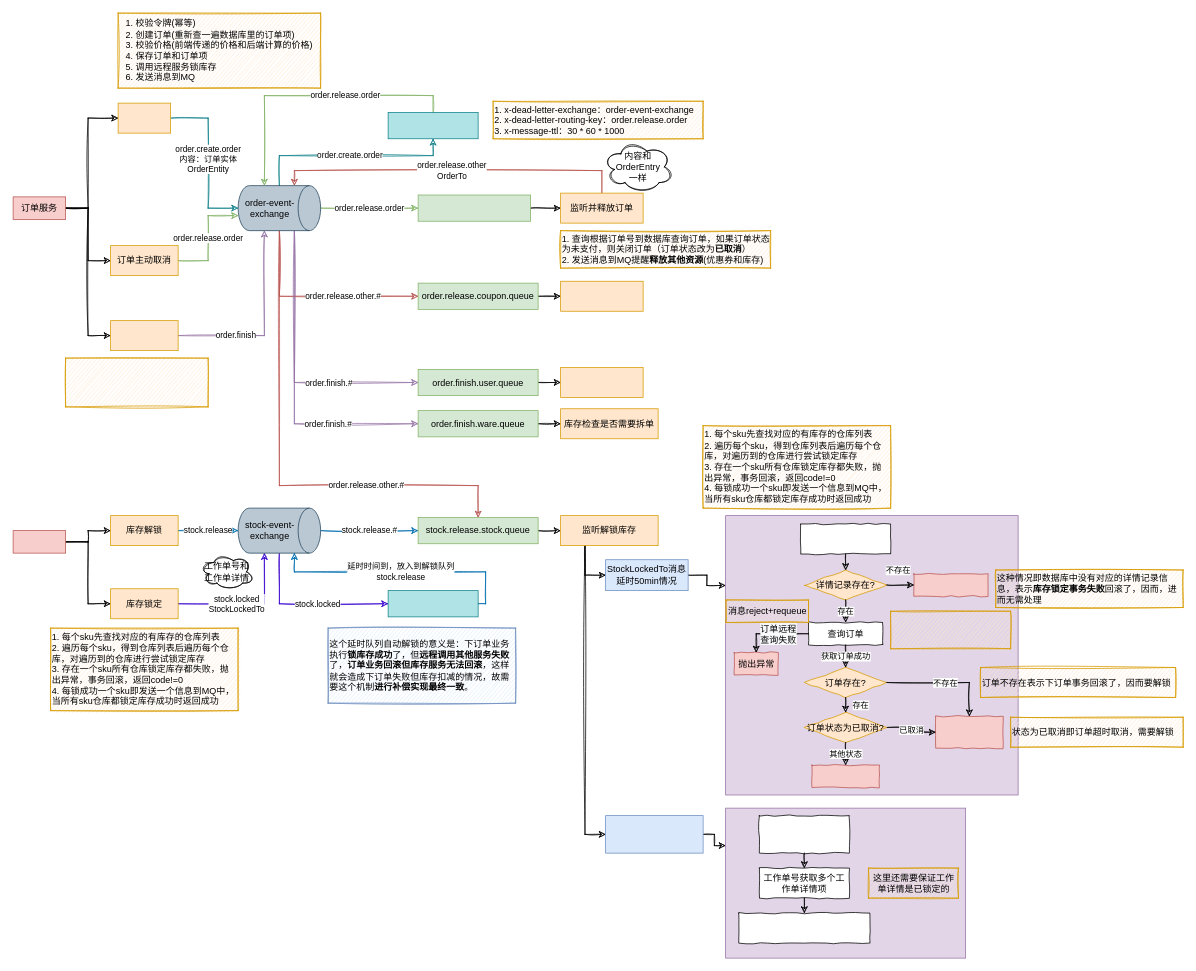
Some shapes in this 1196 by 971 pixel diagram are drawn without their labels. Here are the shapes that lost their labels. From the top down, the centre of each, then its label:
At pixel 144 117: "创建订单".
At pixel 432 125: "order.delay.queue 30 min".
At pixel 474 207: "order.release.order.queue".
At pixel 601 295: "监听并释放优惠券".
At pixel 144 335: "订单支付成功".
At pixel 136 382: "1. 保存交易流水信息 2. 修改订单状态为支付成功 3. 给支付宝异步通知返回success".
At pixel 601 382: "监听给用户加积分".
At pixel 39 541: "库存服务".
At pixel 845 538: "根据工作单详情id查询详情记录".
At pixel 432 603: "stock.delay.queue 50 min".
At pixel 950 584: "无需解锁，返回".
At pixel 950 629: "存在表示锁库存成功，此时需查看订单状态判断是否解锁".
At pixel 969 732: "库存未解锁时 解锁库存，返回".
At pixel 845 776: "不能解锁，返回".
At pixel 654 834: "OrderTo消息 订单关单时发来的消息 30min".
At pixel 804 834: "获取订单号 根据订单号得到对应库存工作单".
At pixel 804 927: "sku库存解锁 更新工作单详情状态为已解锁".
